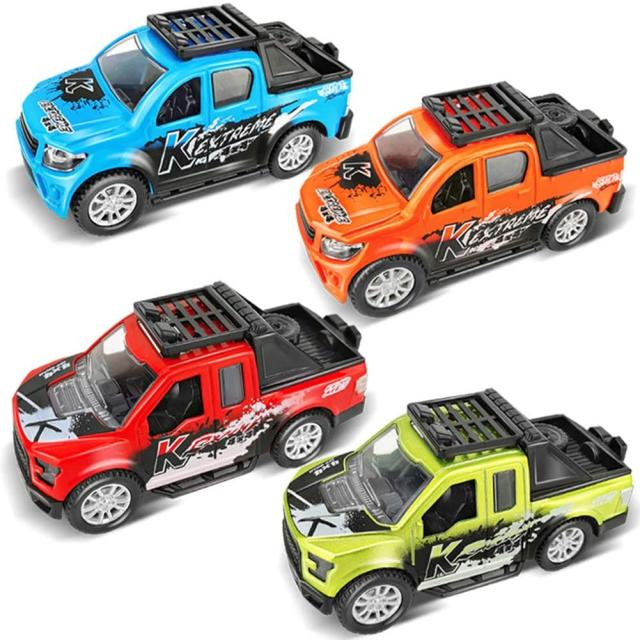Car: (11, 279, 368, 535), (281, 386, 634, 634), (295, 79, 628, 318), (14, 2, 353, 236)
